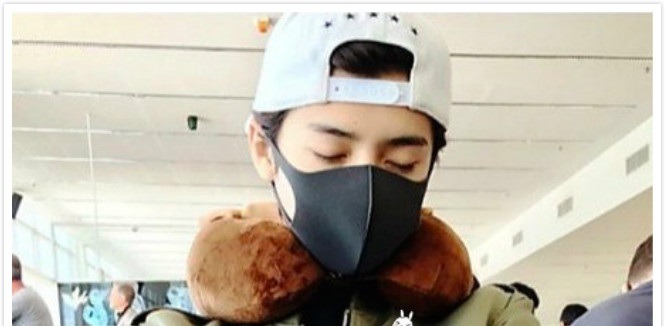face_mask: (277, 100, 438, 273)
